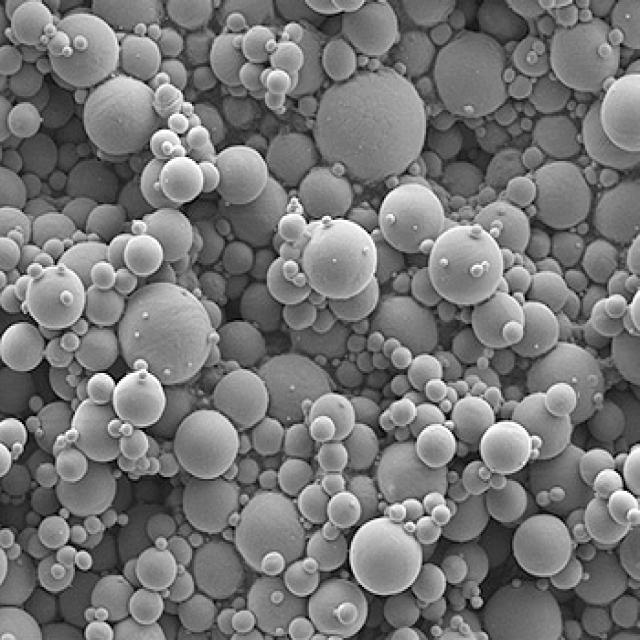cells: (310, 61, 428, 188), (117, 282, 216, 388), (431, 30, 512, 124), (523, 339, 607, 426), (295, 216, 377, 305), (82, 70, 161, 162), (347, 513, 428, 600), (429, 219, 506, 309), (229, 491, 307, 579), (549, 13, 619, 94), (210, 177, 290, 246), (528, 157, 600, 232), (51, 11, 118, 91), (255, 352, 333, 420), (172, 407, 240, 484), (376, 437, 452, 505), (480, 577, 562, 640), (506, 510, 576, 580), (369, 294, 441, 362), (527, 443, 591, 519), (508, 390, 574, 460), (377, 185, 445, 252), (24, 263, 87, 332), (582, 98, 640, 171), (179, 471, 242, 536), (307, 569, 367, 637), (210, 366, 274, 428), (212, 141, 269, 210), (111, 368, 172, 432), (245, 573, 305, 638), (71, 395, 128, 463), (469, 286, 527, 352), (53, 461, 119, 516), (477, 417, 534, 480), (190, 539, 244, 602), (342, 0, 401, 57), (277, 29, 327, 95), (148, 385, 205, 442), (573, 550, 631, 606), (470, 203, 531, 256), (297, 165, 353, 220), (601, 73, 639, 154), (115, 506, 168, 564), (509, 299, 560, 359), (439, 480, 488, 542), (594, 179, 640, 245), (264, 128, 320, 181), (54, 240, 110, 292), (142, 206, 194, 262), (0, 319, 50, 376), (284, 321, 348, 365), (215, 320, 268, 372), (326, 274, 381, 324), (154, 153, 205, 206), (139, 154, 186, 211), (386, 26, 436, 79), (583, 491, 631, 545), (476, 0, 531, 47), (208, 31, 254, 87), (64, 160, 120, 205), (240, 281, 284, 336), (32, 400, 76, 454), (450, 395, 496, 446), (310, 391, 353, 444), (265, 259, 310, 309), (123, 230, 170, 277), (414, 420, 457, 470), (118, 34, 161, 84), (304, 527, 349, 574), (83, 281, 126, 330), (436, 544, 486, 586), (59, 571, 99, 623), (134, 546, 179, 592), (486, 476, 530, 523), (534, 114, 578, 160), (484, 149, 528, 195), (90, 573, 134, 619), (9, 0, 53, 46), (75, 325, 118, 372), (36, 78, 74, 131), (609, 317, 639, 384), (526, 73, 573, 114), (0, 549, 35, 604), (346, 471, 382, 524), (523, 270, 566, 314), (86, 203, 129, 246), (32, 211, 77, 252), (18, 134, 58, 180), (193, 216, 228, 268), (439, 159, 484, 199), (344, 420, 378, 472), (0, 368, 39, 413), (1, 602, 46, 640), (6, 97, 42, 144), (382, 588, 422, 630), (177, 592, 217, 634), (186, 102, 226, 144), (152, 76, 189, 121), (241, 21, 277, 67), (284, 556, 324, 597), (588, 400, 625, 444), (319, 37, 355, 82), (167, 0, 218, 31), (578, 447, 618, 486), (408, 402, 447, 442), (411, 562, 448, 604), (116, 177, 153, 219), (82, 529, 118, 572), (322, 490, 360, 530), (126, 588, 166, 626), (36, 555, 76, 593), (222, 237, 257, 280), (582, 241, 617, 284), (296, 482, 329, 527), (406, 353, 444, 392), (274, 0, 331, 26), (401, 0, 454, 27), (540, 381, 577, 419), (275, 457, 312, 495), (426, 122, 463, 160), (180, 29, 216, 68), (0, 168, 28, 218), (35, 514, 72, 551), (283, 420, 318, 459), (452, 326, 486, 366), (250, 417, 284, 457), (612, 1, 638, 53), (514, 36, 546, 78), (0, 206, 32, 247), (130, 474, 172, 505), (314, 439, 349, 476), (268, 40, 305, 75), (505, 172, 539, 210), (8, 62, 42, 100), (409, 266, 442, 305), (429, 348, 466, 382), (551, 230, 584, 268), (590, 298, 623, 336), (60, 196, 100, 227), (84, 369, 116, 407), (472, 122, 510, 154), (618, 526, 640, 581), (103, 234, 137, 269), (463, 361, 501, 392), (54, 448, 88, 482), (223, 94, 257, 128), (162, 567, 195, 602), (114, 616, 164, 639), (0, 417, 29, 456), (240, 248, 274, 281), (551, 556, 583, 591), (282, 300, 317, 332), (196, 267, 228, 302), (347, 202, 379, 236), (461, 460, 492, 495), (237, 61, 268, 96), (348, 394, 385, 423), (160, 56, 189, 93), (25, 592, 58, 624), (41, 338, 74, 370), (0, 463, 32, 496), (150, 129, 182, 162), (144, 511, 176, 543), (388, 394, 416, 430), (610, 594, 638, 630), (440, 552, 469, 586), (608, 489, 636, 524), (578, 286, 608, 318), (332, 355, 362, 387), (118, 430, 150, 460), (583, 606, 611, 640), (504, 264, 531, 299), (90, 256, 116, 292), (308, 412, 338, 442), (592, 468, 622, 498), (260, 547, 289, 578), (276, 213, 308, 241), (158, 24, 184, 58), (31, 487, 59, 518), (608, 270, 635, 302), (421, 592, 446, 626), (234, 455, 260, 487), (413, 517, 441, 546), (228, 608, 257, 636), (190, 63, 218, 92), (112, 267, 139, 297), (0, 282, 25, 314), (167, 535, 191, 568), (0, 44, 23, 78), (195, 161, 219, 193), (120, 558, 144, 590), (506, 73, 534, 100), (489, 347, 516, 375), (153, 452, 180, 480), (0, 236, 21, 272), (15, 244, 40, 274), (524, 232, 550, 260), (419, 151, 445, 179), (289, 614, 317, 640), (443, 586, 466, 617), (425, 373, 447, 405), (45, 31, 70, 59), (398, 498, 427, 522), (389, 344, 415, 370), (308, 308, 334, 334), (199, 301, 224, 328), (428, 21, 452, 49), (563, 268, 591, 292), (386, 270, 414, 294), (362, 367, 390, 391), (267, 69, 291, 97), (550, 4, 579, 27), (429, 110, 456, 134), (34, 462, 58, 489), (18, 172, 42, 199), (2, 147, 25, 175), (431, 300, 460, 322), (26, 532, 50, 558), (281, 21, 305, 47), (535, 257, 562, 280), (420, 492, 447, 515), (216, 608, 239, 635), (225, 274, 247, 302), (84, 622, 116, 640), (596, 167, 620, 190), (186, 126, 208, 151), (481, 385, 504, 408), (522, 146, 544, 170), (502, 322, 524, 346), (167, 112, 191, 134), (337, 602, 358, 627), (40, 239, 66, 259), (58, 331, 80, 354), (56, 546, 80, 567), (262, 89, 286, 110), (607, 294, 626, 320), (388, 374, 410, 396), (498, 401, 519, 424), (365, 331, 386, 354), (469, 378, 489, 402), (431, 503, 450, 528), (321, 474, 346, 493), (275, 241, 300, 260), (14, 276, 32, 302), (236, 430, 254, 456), (535, 16, 556, 38), (562, 619, 584, 640), (171, 252, 193, 273), (348, 334, 368, 357), (33, 250, 56, 270), (296, 96, 316, 119), (448, 10, 467, 34), (497, 248, 517, 270), (578, 541, 598, 563), (370, 350, 390, 372), (257, 469, 277, 491), (68, 525, 88, 547), (353, 350, 373, 372), (449, 479, 468, 502), (378, 410, 397, 433), (47, 169, 66, 192), (382, 337, 402, 358), (116, 455, 138, 474), (386, 504, 406, 524), (504, 383, 522, 405), (418, 236, 436, 258), (219, 465, 241, 483), (582, 161, 599, 184), (226, 12, 246, 31), (478, 187, 499, 205), (72, 86, 90, 107), (75, 549, 92, 571), (489, 472, 507, 492), (100, 509, 118, 529), (106, 419, 126, 437), (75, 378, 90, 402), (69, 228, 89, 246), (350, 318, 372, 334), (324, 521, 339, 544), (0, 528, 15, 551), (457, 204, 476, 222), (449, 380, 468, 398), (213, 217, 231, 236), (392, 427, 412, 444), (150, 72, 171, 88), (219, 526, 237, 544), (67, 358, 85, 376), (49, 561, 66, 580), (595, 43, 615, 59), (448, 194, 468, 210), (383, 172, 399, 192), (145, 458, 162, 476), (205, 330, 222, 348), (222, 358, 240, 375), (608, 27, 624, 46), (282, 262, 298, 281), (24, 415, 40, 434), (328, 162, 347, 178), (519, 116, 536, 133), (448, 614, 465, 631), (390, 61, 407, 78), (572, 524, 588, 542), (302, 557, 318, 575), (82, 518, 100, 534), (27, 264, 43, 282), (132, 220, 148, 238), (185, 112, 201, 130), (513, 98, 528, 117), (406, 159, 421, 178), (548, 486, 567, 501), (228, 510, 242, 530), (537, 489, 553, 506), (56, 506, 72, 523), (37, 56, 54, 72), (146, 24, 162, 41), (574, 220, 589, 238), (453, 439, 468, 457), (28, 395, 43, 413), (177, 520, 192, 538), (60, 289, 74, 308), (5, 544, 21, 560), (24, 509, 39, 526), (170, 145, 187, 160), (502, 67, 516, 85), (403, 520, 417, 538), (190, 531, 204, 549), (73, 319, 87, 337), (524, 203, 539, 219), (294, 273, 309, 289), (127, 468, 143, 483), (300, 400, 315, 416), (383, 211, 398, 227), (86, 230, 102, 245), (132, 23, 148, 38), (578, 7, 592, 24), (564, 98, 578, 115), (271, 588, 285, 605), (65, 429, 79, 446), (180, 102, 195, 117), (530, 40, 546, 54), (476, 356, 490, 372), (457, 622, 471, 638), (63, 374, 79, 388), (468, 263, 481, 280), (9, 230, 22, 247), (155, 534, 167, 552), (458, 105, 476, 117), (159, 140, 173, 155), (365, 59, 380, 73), (83, 606, 96, 622), (74, 35, 87, 51), (195, 398, 212, 410), (38, 29, 50, 46), (120, 423, 133, 438), (471, 224, 484, 239), (312, 354, 329, 365), (10, 442, 23, 456), (264, 38, 277, 52), (321, 216, 334, 230), (505, 41, 517, 56), (489, 220, 504, 232), (526, 50, 539, 63), (95, 606, 108, 619), (376, 501, 389, 514), (436, 256, 448, 270), (474, 124, 486, 138), (230, 36, 242, 50), (237, 492, 249, 505), (489, 227, 502, 239), (175, 513, 187, 526), (44, 24, 56, 37), (469, 598, 483, 609), (17, 304, 28, 317), (55, 433, 65, 447), (438, 400, 452, 410), (117, 514, 128, 526), (61, 47, 72, 59), (480, 261, 490, 273), (151, 182, 162, 192), (56, 264, 66, 274), (34, 428, 43, 439)
